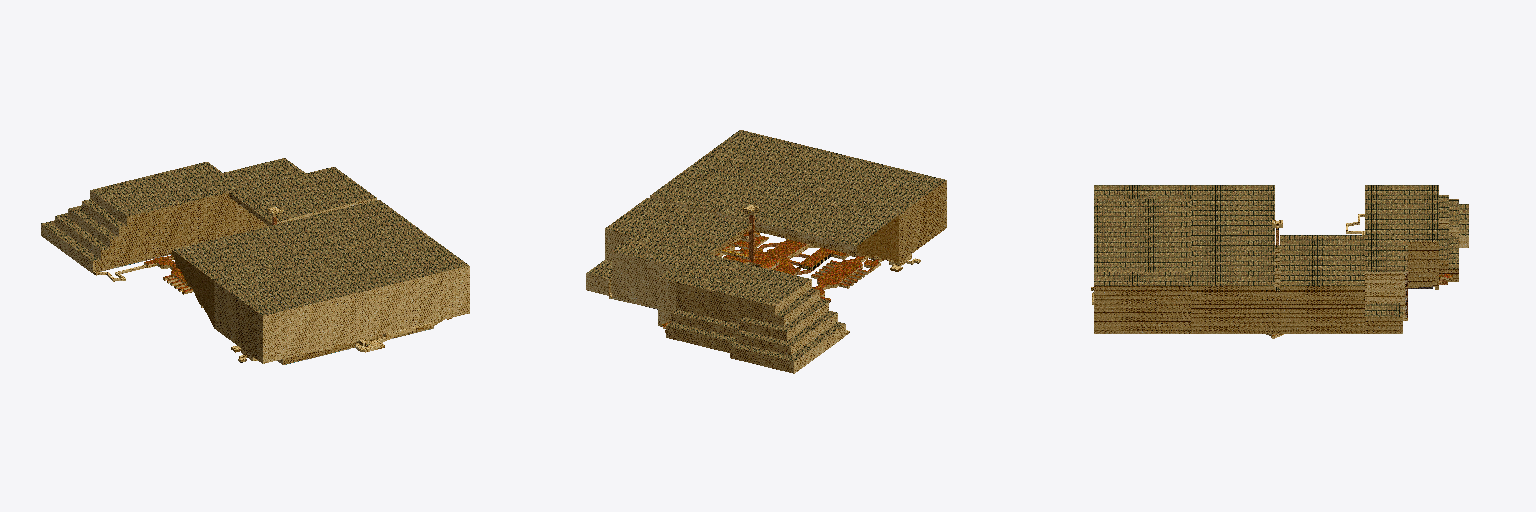
The picture shows the model from 3 angles: view 1: azimuth 30°, elevation 25°; view 2: azimuth 150°, elevation 25°; view 3: azimuth 270°, elevation 25°; orthographic projection.
Parts seen in each view (by area): view 1: Room1, Room175, Room172, Room174, Room173; view 2: Room175, Room1, Room172, Room174, Room173, Room195, Room21; view 3: Room1, Room172, Room175, Room173, Room174, Room195.
Part boxes in pixels (x1,y1,x2,y2): Room1: (214, 230, 469, 364); Room175: (41, 158, 305, 272); Room172: (172, 200, 419, 326); Room174: (229, 177, 334, 225); Room173: (294, 167, 376, 209); Room175: (612, 236, 845, 373); Room1: (693, 130, 946, 262); Room172: (650, 165, 898, 262); Room174: (647, 208, 751, 255); Room173: (605, 198, 687, 260); Room195: (586, 260, 611, 295); Room21: (817, 259, 862, 288); Room1: (1094, 185, 1190, 333); Room172: (1191, 185, 1274, 333); Room175: (1365, 185, 1468, 317); Room173: (1275, 266, 1364, 333); Room174: (1275, 235, 1364, 286); Room195: (1365, 303, 1402, 333).
Bounding box in the file's own units: 28672 × 9712 × 38787.
127 materials, 124 textured.